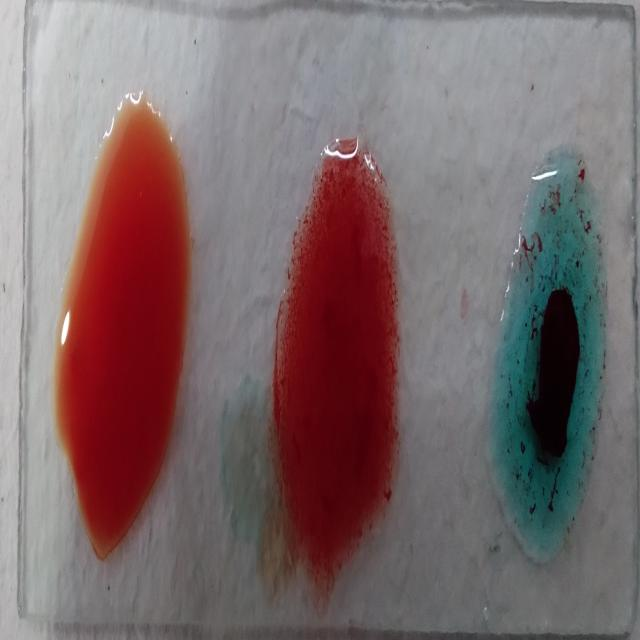A: (500, 148, 603, 563)
D: (276, 132, 401, 583)
